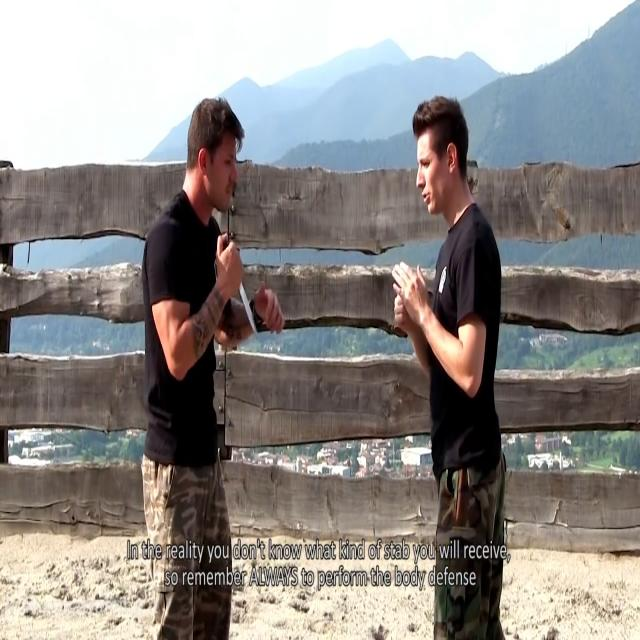knife: (238, 285, 265, 344)
